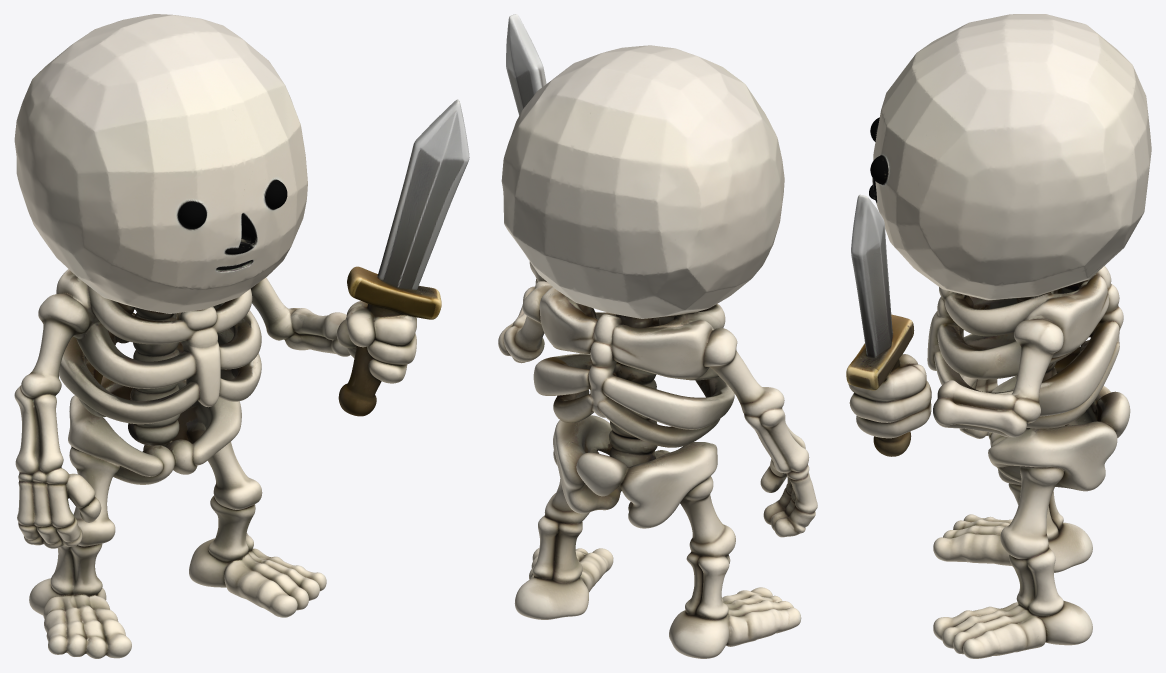
File: Esqueleto.glb
3 views of the same model, side by side, from view 1: azimuth 30°, elevation 25°; view 2: azimuth 150°, elevation 25°; view 3: azimuth 270°, elevation 25° (orthographic). The views are drawn at different scales.
Bounding box in the file's own units: 1.32 × 1.9 × 0.9201.
Materials: 1 (1 with a texture image).
